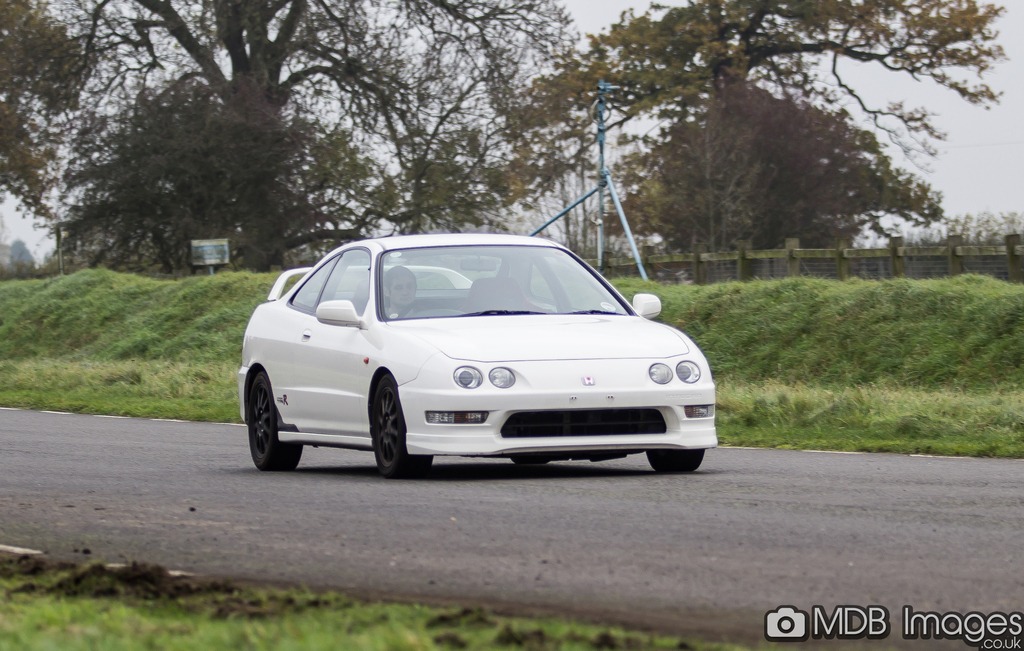cars: (233, 234, 712, 481)
